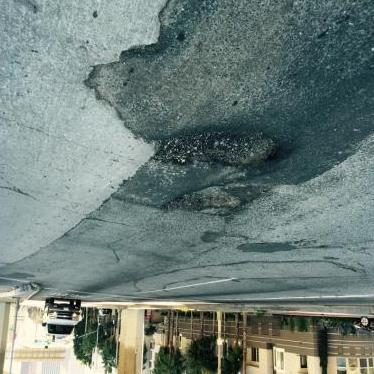pothole: (157, 122, 298, 174), (173, 182, 261, 223)
